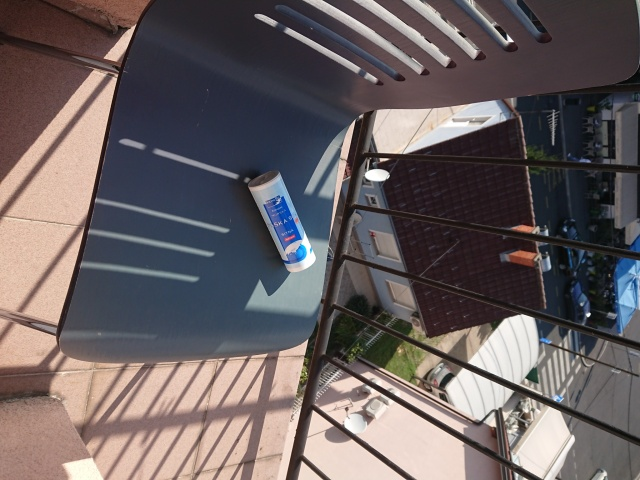Solana Pag Fine Sea Salt 250g: (245, 168, 319, 275)
